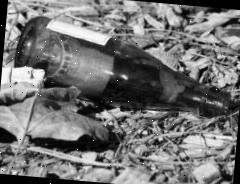glass: (14, 18, 236, 121)
